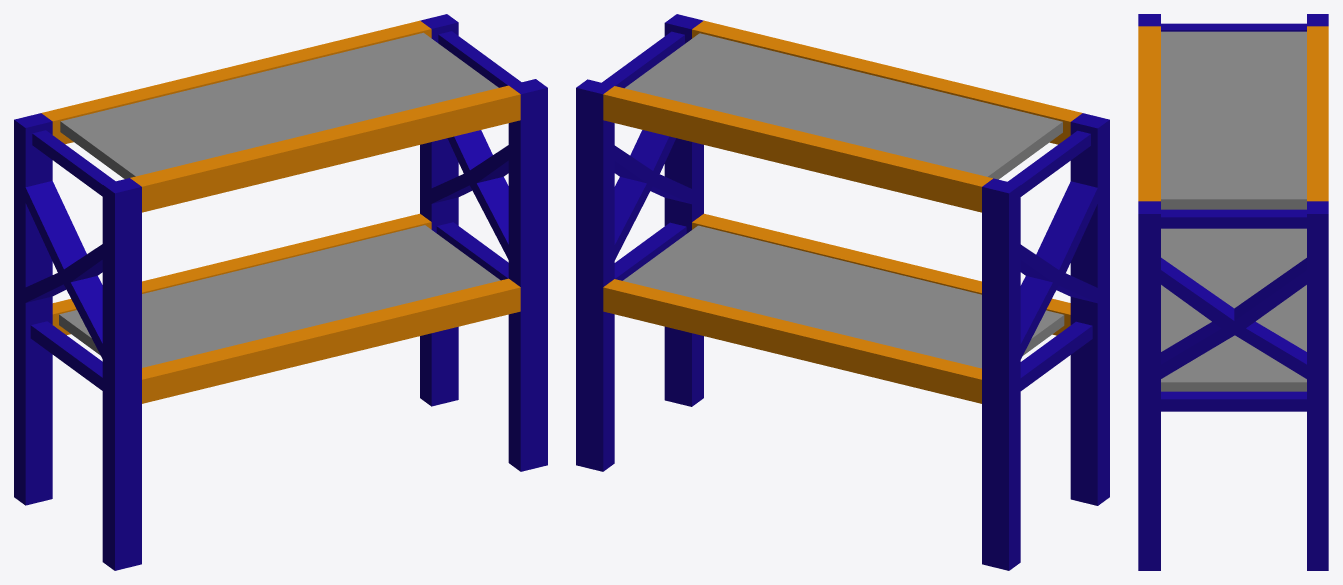
Rendered from rack.glb.
The picture shows the model from 3 angles, left to right: view 1: azimuth 30°, elevation 25°; view 2: azimuth 150°, elevation 25°; view 3: azimuth 270°, elevation 25°; orthographic projection. The views are drawn at different scales.
Visible parts, largest first — view 1: Rack; view 2: Rack; view 3: Rack.
Boxes of the visible parts, x1,y1,x2,y2 form: Rack: [14, 14, 547, 570]; Rack: [576, 14, 1109, 570]; Rack: [1138, 14, 1328, 570].
Bounding box in the file's own units: 4.96 × 4.14 × 2.
